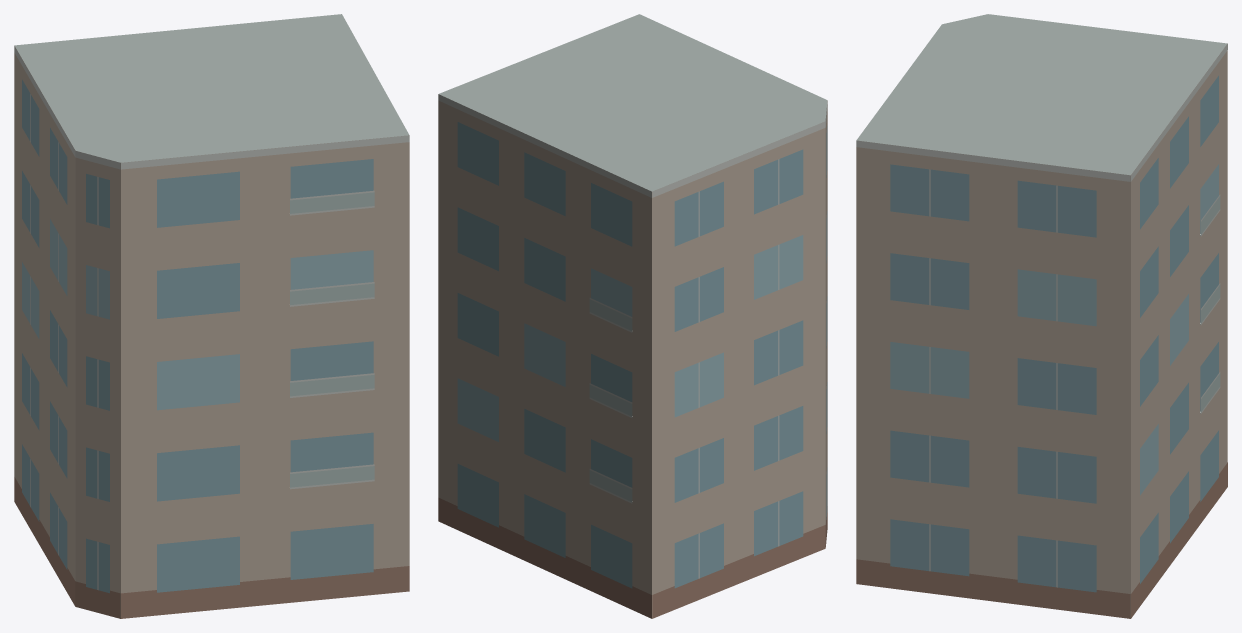
Rendered from survey-upis-32880094.glb.
3 renders of one model, left to right at view 1: azimuth 30°, elevation 25°; view 2: azimuth 150°, elevation 25°; view 3: azimuth 270°, elevation 25°, orthographic. The views are drawn at different scales.
Parts seen in each view (by area): view 1: survey-upis-32880094.tmp; view 2: survey-upis-32880094.tmp; view 3: survey-upis-32880094.tmp.
Boxes of the visible parts, x1,y1,x2,y2 form: survey-upis-32880094.tmp: (14, 14, 409, 618); survey-upis-32880094.tmp: (438, 14, 827, 618); survey-upis-32880094.tmp: (856, 14, 1227, 618).
Size of the model in its own units: 12.72 by 16.3 by 12.38.
